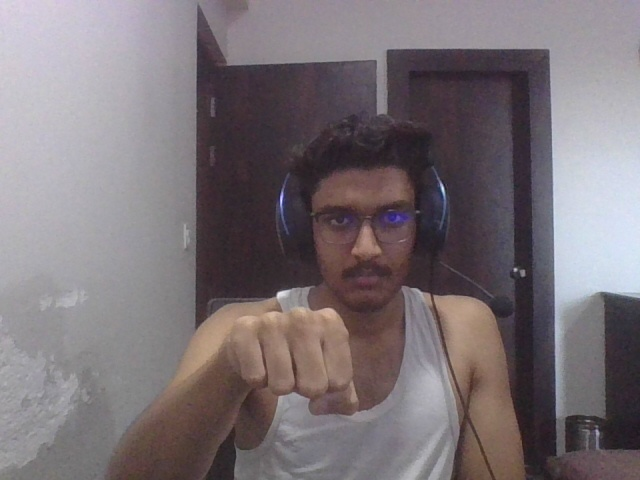Yes: (222, 300, 365, 426)
